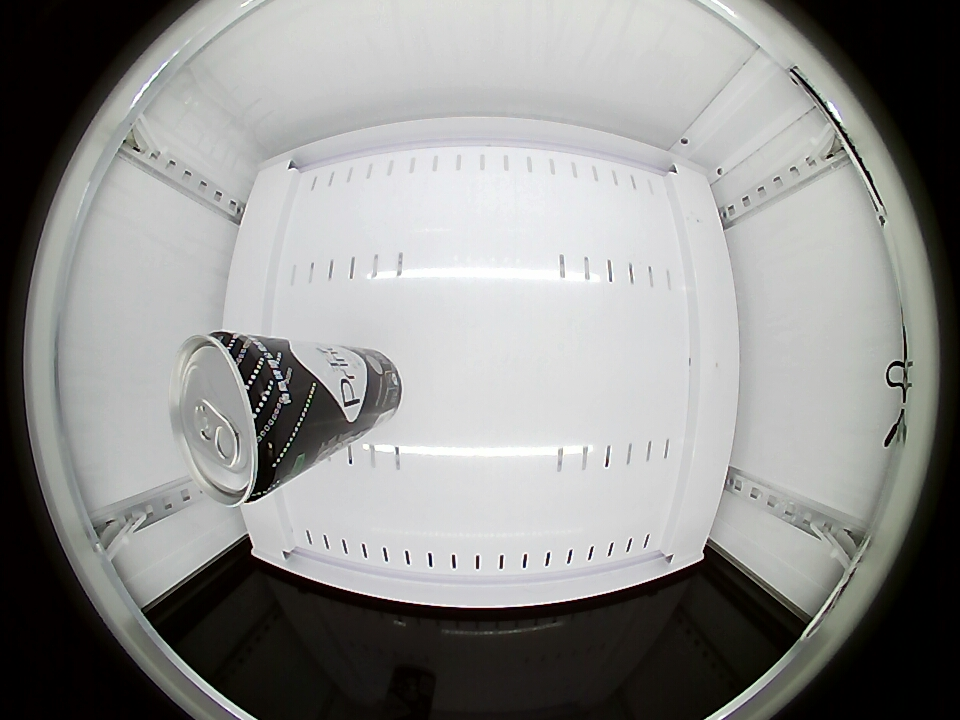qingdaowangzi-1: (171, 332, 300, 506)
